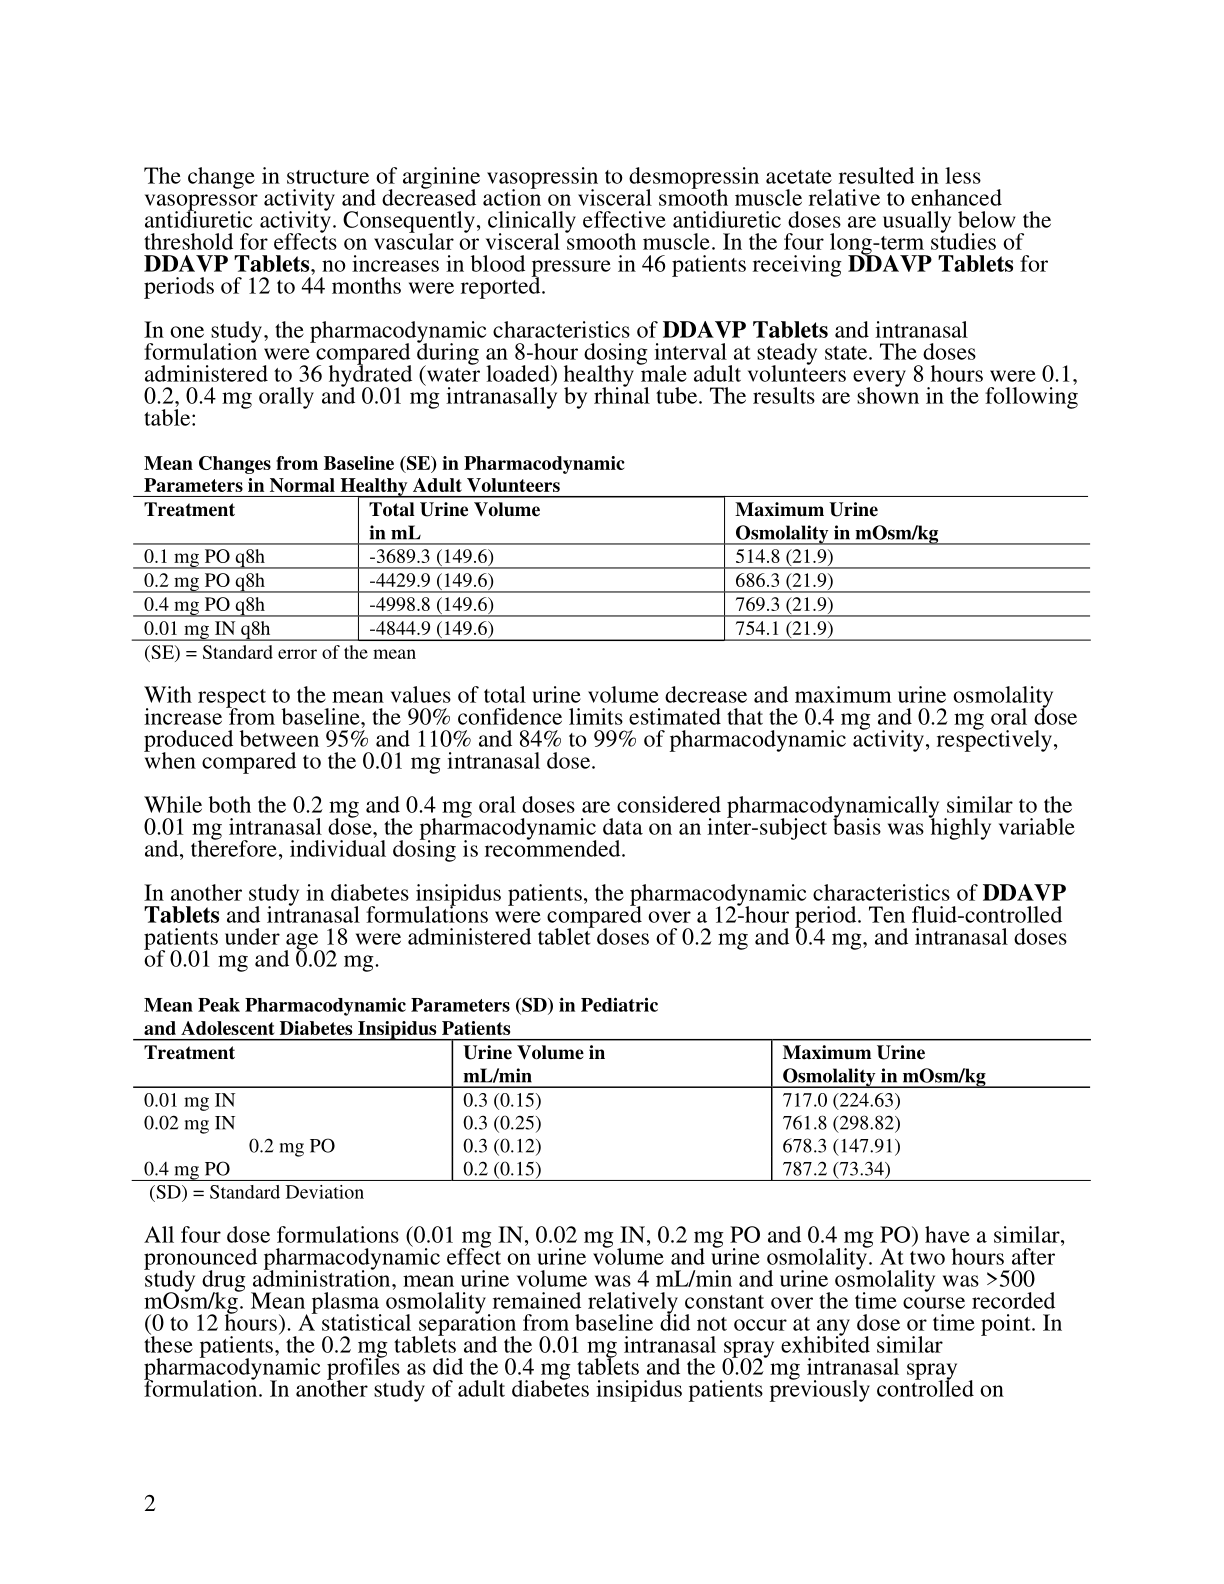partial_lined: (131, 494, 1092, 642), (132, 1038, 1092, 1182)
